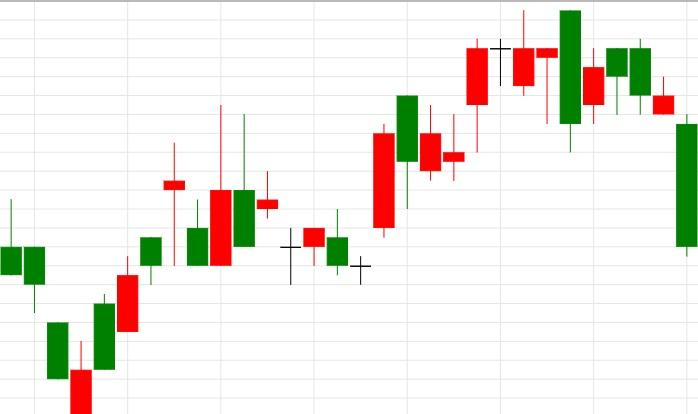bearish_engulfing_fall: (443, 11, 581, 181)
morning_star_rise: (256, 124, 395, 285)
